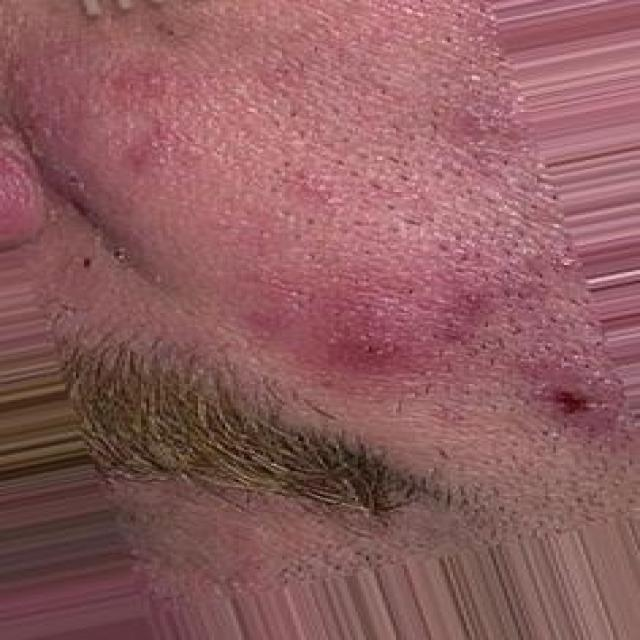Rosacea: (30, 44, 482, 358)
